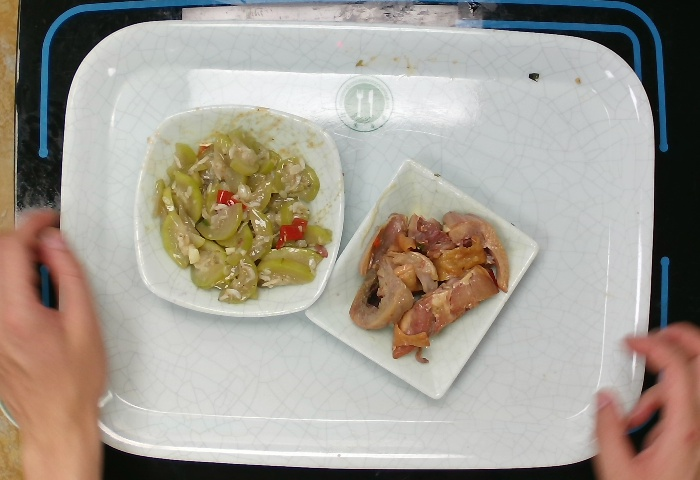WCQzf-Da_Si_Fang_Die: (130, 95, 350, 321)
WCQzf-Ru_Ci_Si_Fang_Die: (295, 153, 543, 403)
